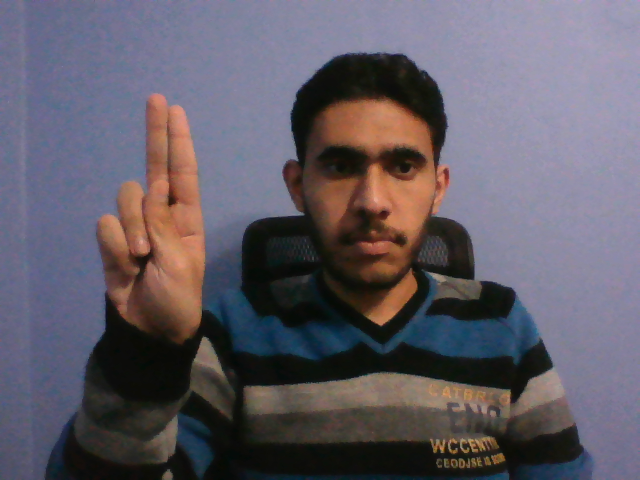U: (97, 85, 216, 358)
